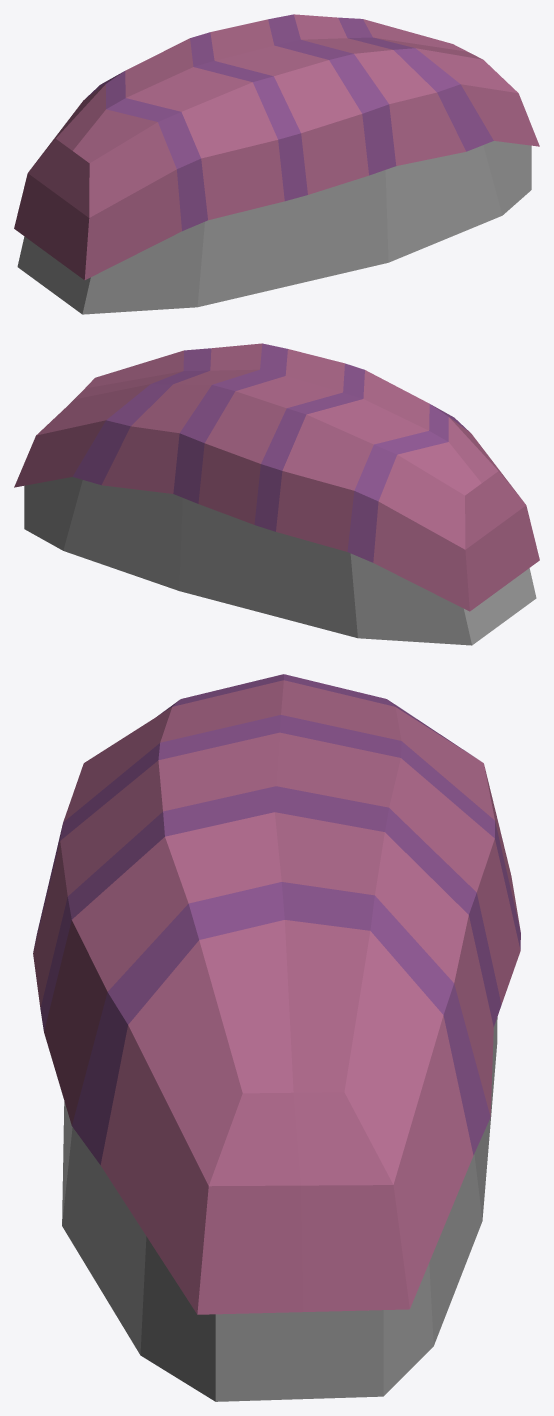
The model's file is Sushi_Nigiri2.glb.
3 renders of one model, top to bottom at view 1: azimuth 30°, elevation 25°; view 2: azimuth 150°, elevation 25°; view 3: azimuth 270°, elevation 25°, orthographic. The views are drawn at different scales.
Parts seen in each view (by area): view 1: Sushi_Nigiri2; view 2: Sushi_Nigiri2; view 3: Sushi_Nigiri2.
Boxes of the visible parts, x1,y1,x2,y2 form: Sushi_Nigiri2: (14, 14, 539, 314); Sushi_Nigiri2: (14, 343, 539, 645); Sushi_Nigiri2: (33, 674, 520, 1401).
Size of the model in its own units: 0.0896 by 0.0352 by 0.0407.
